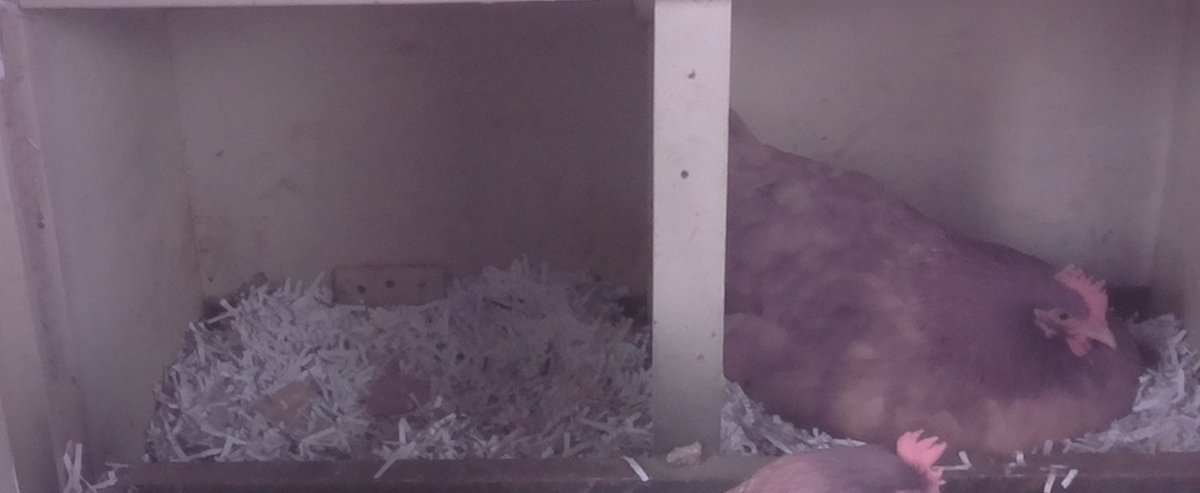hen: (732, 179, 1148, 444), (716, 427, 956, 493)
